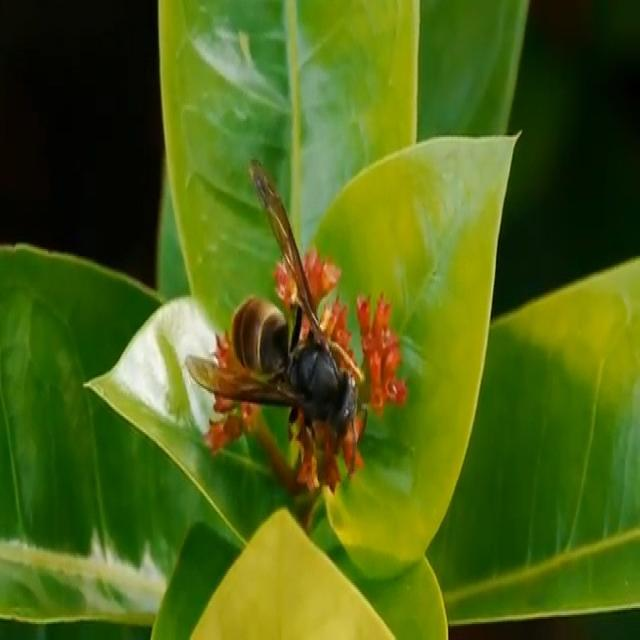Hornets: (185, 156, 359, 438)
